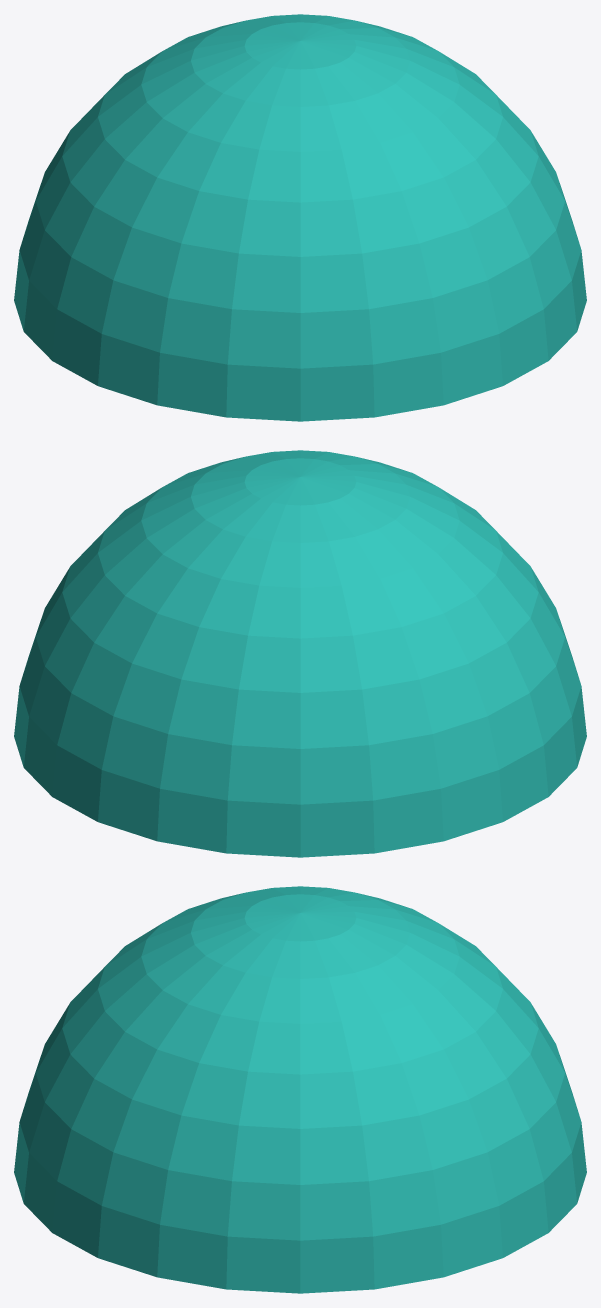
Rendered from hemisphere-lite.glb.
3 renders of one model, top to bottom at view 1: azimuth 30°, elevation 25°; view 2: azimuth 150°, elevation 25°; view 3: azimuth 270°, elevation 25°, orthographic.
Parts seen in each view (by area): view 1: Hemisphere; view 2: Hemisphere; view 3: Hemisphere.
Part boxes in pixels (x1=…): Hemisphere: x1=14, y1=14, x2=586, y2=421; Hemisphere: x1=14, y1=450, x2=586, y2=857; Hemisphere: x1=14, y1=886, x2=586, y2=1293.
Size of the model in its own units: 1.8 by 0.9 by 1.8.
